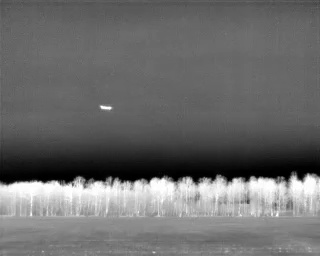DRONE: (96, 100, 116, 115)
